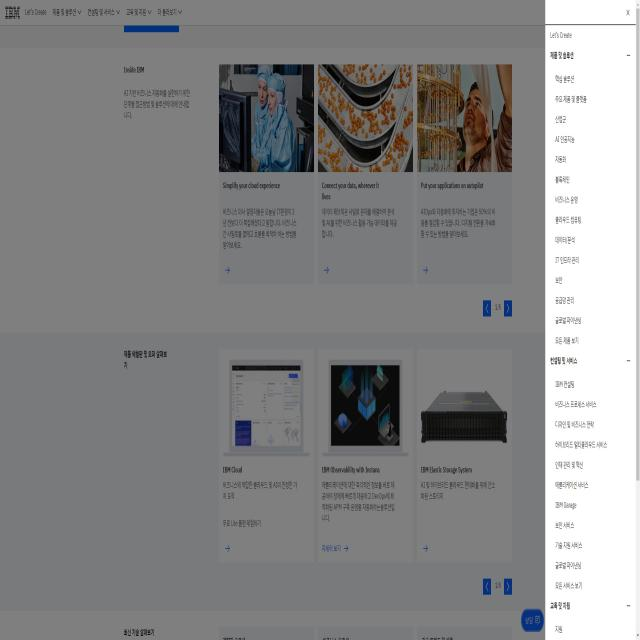side-panel: (545, 2, 635, 640)
tab-bar: (25, 1, 183, 24)
